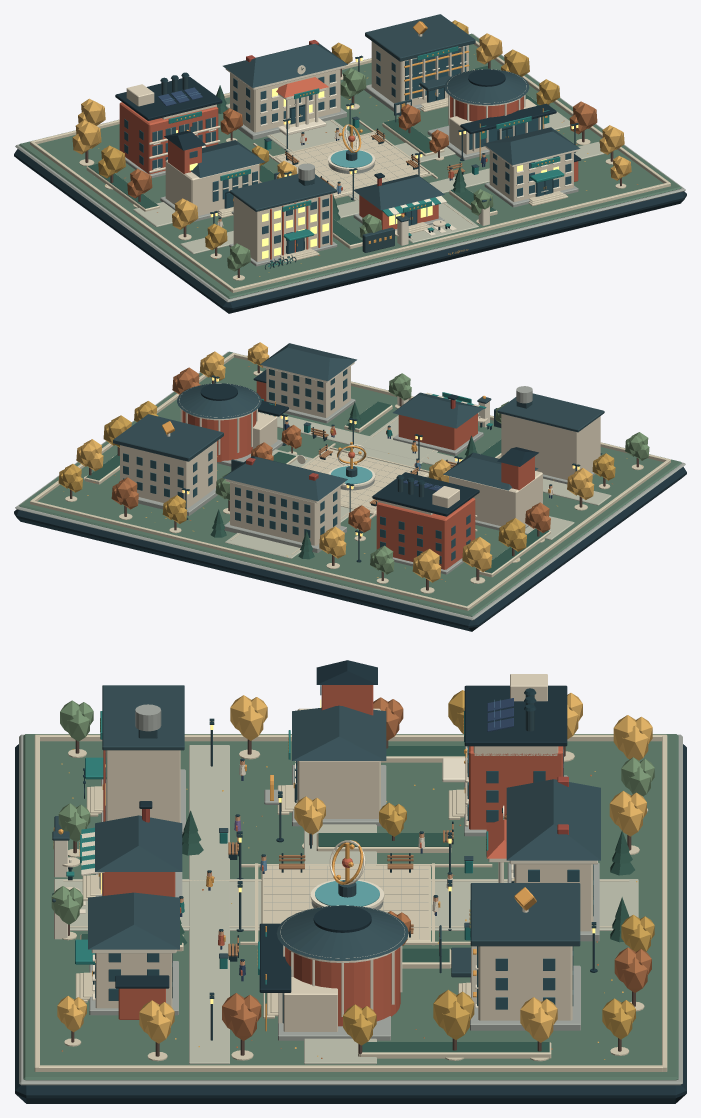
The model's file is campus.glb.
3 renders of one model, top to bottom at view 1: azimuth 30°, elevation 25°; view 2: azimuth 150°, elevation 25°; view 3: azimuth 270°, elevation 25°, orthographic. The views are drawn at different scales.
Parts seen in each view (by area): view 1: campus_ground, campus_trees, building_academy, building_dorm, building_foundation, building_lab, building_conference, building_library, building_admin, building_cafe, campus_props, campus_sculpture; view 2: campus_ground, campus_trees, building_academy, building_lab, building_foundation, building_dorm, building_admin, building_conference, building_library, building_cafe, campus_props, campus_sculpture; view 3: campus_ground, campus_trees, building_conference, building_foundation, building_library, building_lab, building_dorm, building_academy, building_admin, building_cafe, campus_props, campus_sculpture (+1 smaller).
Part boxes in pixels (x1=…): campus_ground: x1=14, y1=33, x2=686, y2=313; campus_trees: x1=72, y1=20, x2=631, y2=280; building_academy: x1=223, y1=40, x2=347, y2=139; building_dorm: x1=229, y1=163, x2=337, y2=269; building_foundation: x1=364, y1=14, x2=475, y2=115; building_lab: x1=115, y1=72, x2=222, y2=177; building_conference: x1=427, y1=69, x2=556, y2=160; building_library: x1=160, y1=130, x2=265, y2=221; building_admin: x1=483, y1=127, x2=581, y2=207; building_cafe: x1=353, y1=173, x2=450, y2=238; campus_props: x1=210, y1=55, x2=578, y2=252; campus_sculpture: x1=328, y1=124, x2=375, y2=173; campus_ground: x1=14, y1=351, x2=686, y2=631; campus_trees: x1=58, y1=342, x2=649, y2=593; building_academy: x1=223, y1=455, x2=347, y2=552; building_lab: x1=372, y1=472, x2=479, y2=574; building_foundation: x1=113, y1=414, x2=223, y2=515; building_dorm: x1=497, y1=386, x2=604, y2=484; building_admin: x1=253, y1=343, x2=356, y2=423; building_conference: x1=177, y1=383, x2=288, y2=466; building_library: x1=443, y1=447, x2=542, y2=530; building_cafe: x1=392, y1=392, x2=492, y2=455; campus_props: x1=181, y1=375, x2=580, y2=562; campus_sculpture: x1=328, y1=442, x2=375, y2=490; campus_ground: x1=15, y1=734, x2=686, y2=1103; campus_trees: x1=51, y1=690, x2=654, y2=1061; building_conference: x1=257, y1=905, x2=408, y2=1040; building_foundation: x1=451, y1=883, x2=580, y2=1030; building_library: x1=264, y1=660, x2=386, y2=826; building_lab: x1=442, y1=674, x2=567, y2=836; building_dorm: x1=83, y1=685, x2=185, y2=833; building_academy: x1=486, y1=776, x2=600, y2=941; building_admin: x1=75, y1=892, x2=179, y2=1019; building_cafe: x1=62, y1=801, x2=182, y2=900; campus_props: x1=52, y1=718, x2=597, y2=1040; campus_sculpture: x1=310, y1=840, x2=384, y2=909.
Bounding box in the file's own units: 35.4 × 6.75 × 28.54.
